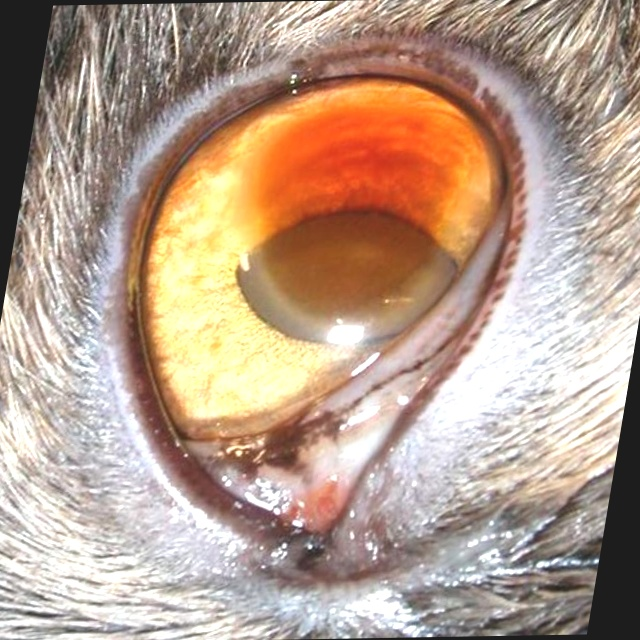eye_infection: (72, 67, 546, 554)
